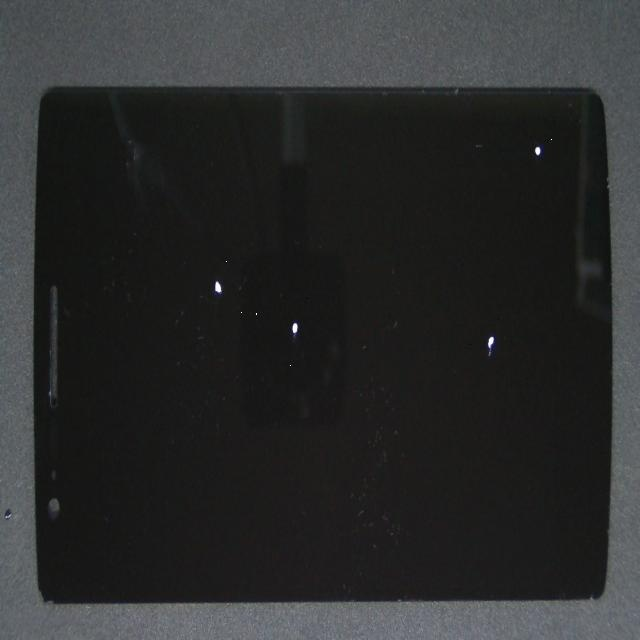stain: (219, 144, 640, 539), (179, 125, 428, 461), (239, 63, 640, 260), (106, 159, 322, 478)
